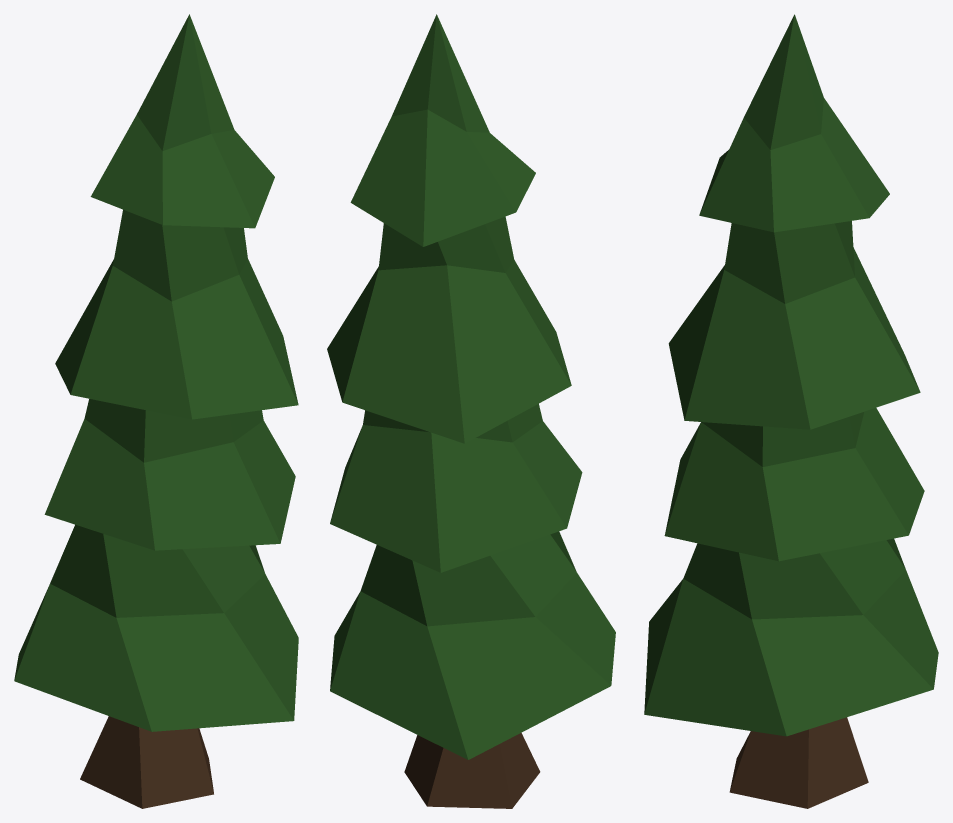
The model's file is snowtree.obj.
The picture shows the model from 3 angles, left to right: view 1: azimuth 30°, elevation 25°; view 2: azimuth 150°, elevation 25°; view 3: azimuth 270°, elevation 25°; orthographic projection. The views are drawn at different scales.
Visible parts, largest first — view 1: SpruceTree3_Cylinder.015_SpruceTreeLeaf.002, SpruceTree3_Cylinder.015_SpruceTreeTrunk.002; view 2: SpruceTree3_Cylinder.015_SpruceTreeLeaf.002, SpruceTree3_Cylinder.015_SpruceTreeTrunk.002; view 3: SpruceTree3_Cylinder.015_SpruceTreeLeaf.002, SpruceTree3_Cylinder.015_SpruceTreeTrunk.002.
Part boxes in pixels (box(x1,y1,x2,y2)): SpruceTree3_Cylinder.015_SpruceTreeLeaf.002: box(14, 14, 298, 731); SpruceTree3_Cylinder.015_SpruceTreeTrunk.002: box(80, 716, 213, 808); SpruceTree3_Cylinder.015_SpruceTreeLeaf.002: box(327, 14, 615, 759); SpruceTree3_Cylinder.015_SpruceTreeTrunk.002: box(404, 732, 540, 808); SpruceTree3_Cylinder.015_SpruceTreeLeaf.002: box(644, 14, 938, 736); SpruceTree3_Cylinder.015_SpruceTreeTrunk.002: box(729, 717, 868, 808).
Size of the model in its own units: 5.25 by 13.55 by 4.62.
Materials: 2 (2 with a texture image).
